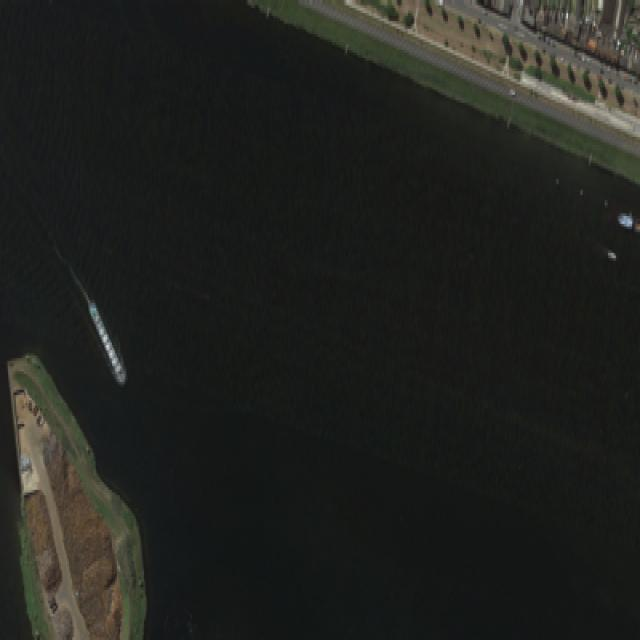boat: (86, 298, 125, 382), (606, 248, 616, 255)
